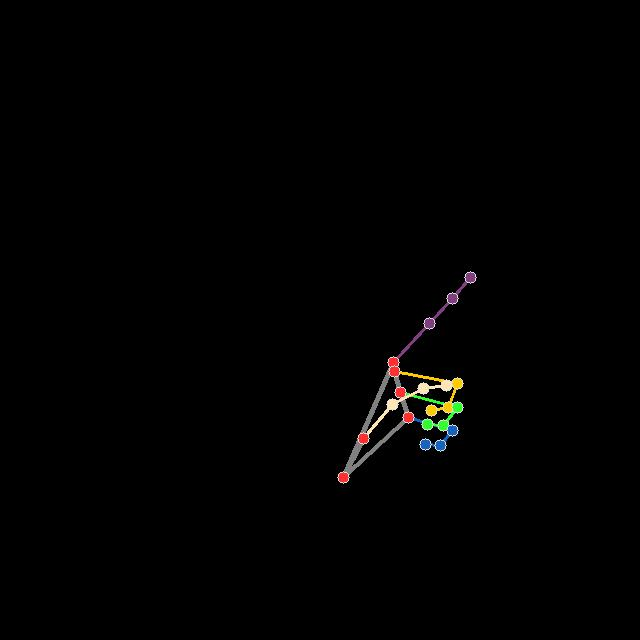gun: (335, 266, 486, 484)
